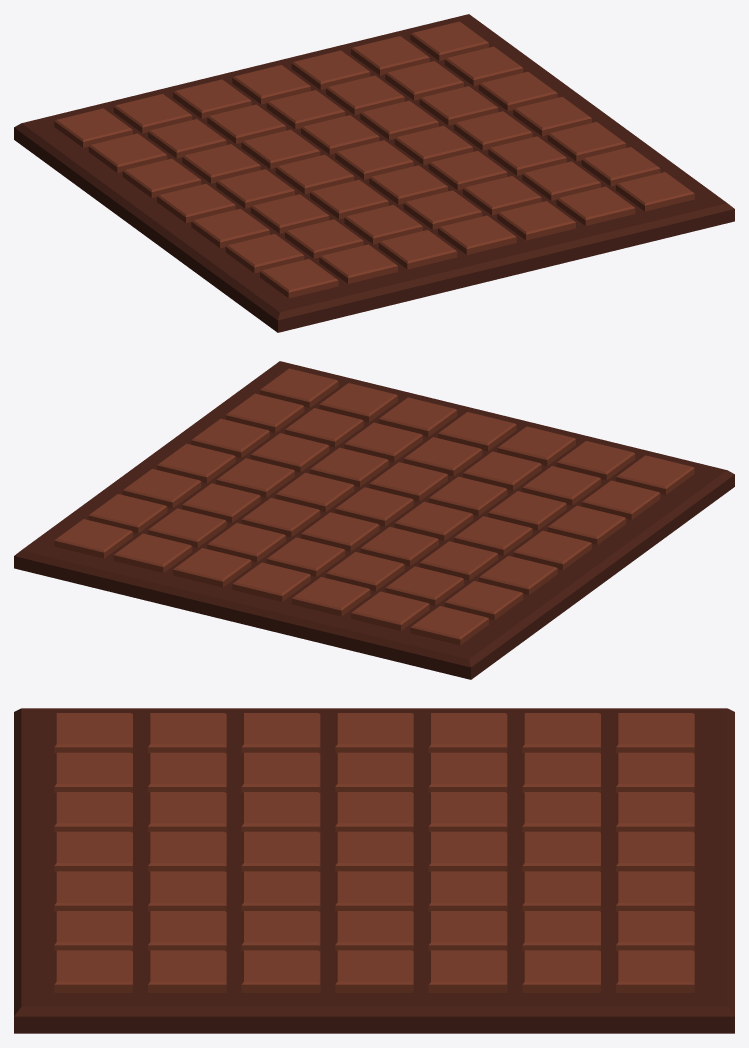
Rendered from ClassicBoard7x7.fbx.
3 renders of one model, top to bottom at view 1: azimuth 30°, elevation 25°; view 2: azimuth 150°, elevation 25°; view 3: azimuth 270°, elevation 25°, orthographic. The views are drawn at different scales.
Parts seen in each view (by area): view 1: TABLERO_CLASICO_7x7, Casilla_f1, Casilla_c1, Casilla_b1, Casilla_d1, Casilla_g1, Casilla_a1, Casilla_e1, Casilla_a2, Casilla_d2, Casilla_e3, Casilla_e7 (+38 smaller); view 2: TABLERO_CLASICO_7x7, Casilla_f7, Casilla_c7, Casilla_b7, Casilla_d7, Casilla_g7, Casilla_a7, Casilla_e7, Casilla_a6, Casilla_d6, Casilla_e5, Casilla_g6 (+38 smaller); view 3: TABLERO_CLASICO_7x7, Casilla_g3, Casilla_g5, Casilla_g2, Casilla_g6, Casilla_g1, Casilla_g4, Casilla_g7, Casilla_d3, Casilla_d5, Casilla_d1, Casilla_d7 (+38 smaller).
Boxes of the visible parts, x1,y1,x2,y2 form: TABLERO_CLASICO_7x7: [14, 14, 734, 332]; Casilla_f1: [556, 186, 635, 225]; Casilla_c1: [378, 230, 457, 269]; Casilla_b1: [319, 244, 397, 283]; Casilla_d1: [438, 215, 516, 254]; Casilla_g1: [616, 172, 694, 211]; Casilla_a1: [260, 259, 338, 298]; Casilla_e1: [497, 201, 575, 240]; Casilla_a2: [225, 234, 304, 273]; Casilla_d2: [403, 190, 482, 229]; Casilla_e3: [428, 151, 507, 190]; Casilla_e7: [291, 50, 370, 89]; TABLERO_CLASICO_7x7: [14, 361, 734, 679]; Casilla_f7: [113, 533, 192, 572]; Casilla_c7: [291, 577, 370, 616]; Casilla_b7: [351, 591, 429, 630]; Casilla_d7: [232, 562, 310, 601]; Casilla_g7: [54, 519, 132, 558]; Casilla_a7: [410, 606, 488, 645]; Casilla_e7: [173, 548, 251, 587]; Casilla_a6: [444, 581, 523, 620]; Casilla_d6: [266, 537, 345, 576]; Casilla_e5: [241, 498, 320, 537]; Casilla_g6: [88, 494, 167, 533]; TABLERO_CLASICO_7x7: [14, 708, 734, 1033]; Casilla_g3: [241, 950, 320, 992]; Casilla_g5: [428, 950, 507, 992]; Casilla_g2: [148, 950, 226, 992]; Casilla_g6: [522, 950, 600, 992]; Casilla_g1: [54, 950, 132, 992]; Casilla_g4: [335, 950, 413, 992]; Casilla_g7: [616, 950, 694, 992]; Casilla_d3: [241, 831, 320, 871]; Casilla_d5: [428, 831, 507, 871]; Casilla_d1: [54, 831, 132, 872]; Casilla_d7: [616, 831, 694, 872].
Size of the model in its own units: 770 by 40 by 770.
